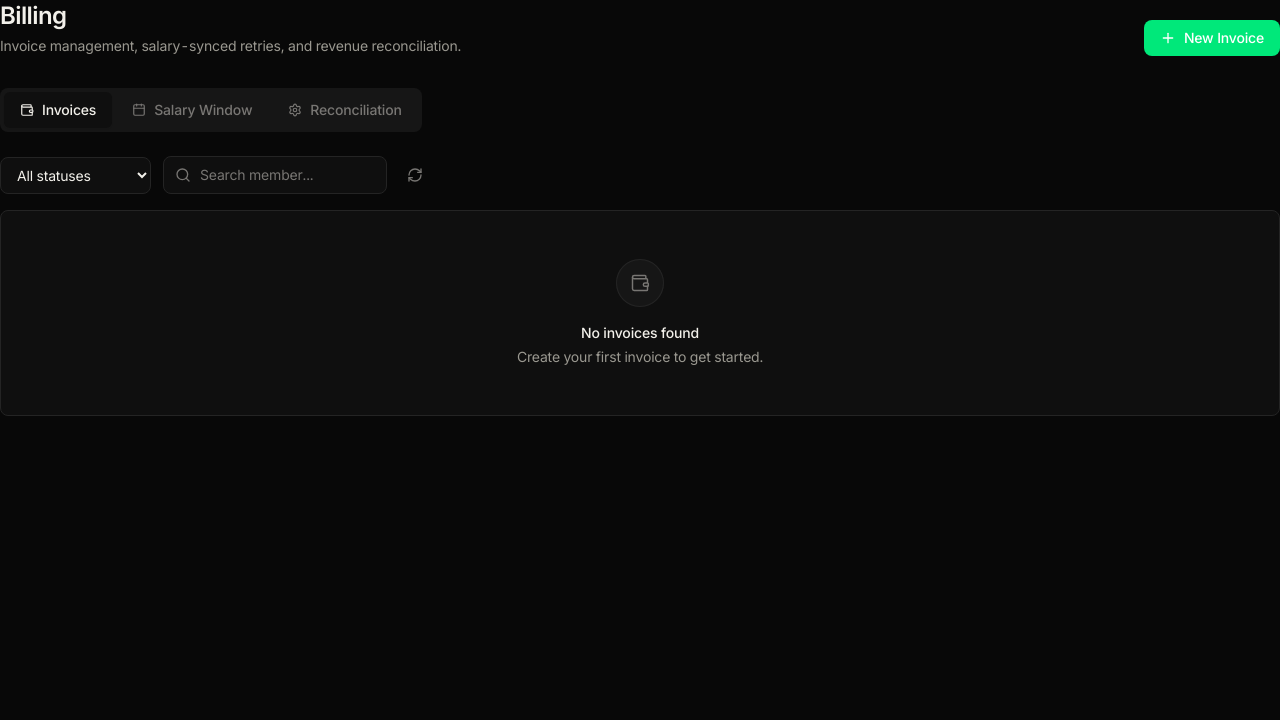
BillingClient — New Invoice Modal › opens compose modal when clicking "New Invoice"
Click the button "New Invoice" at [1212, 38], box [1144,20,1279,56]
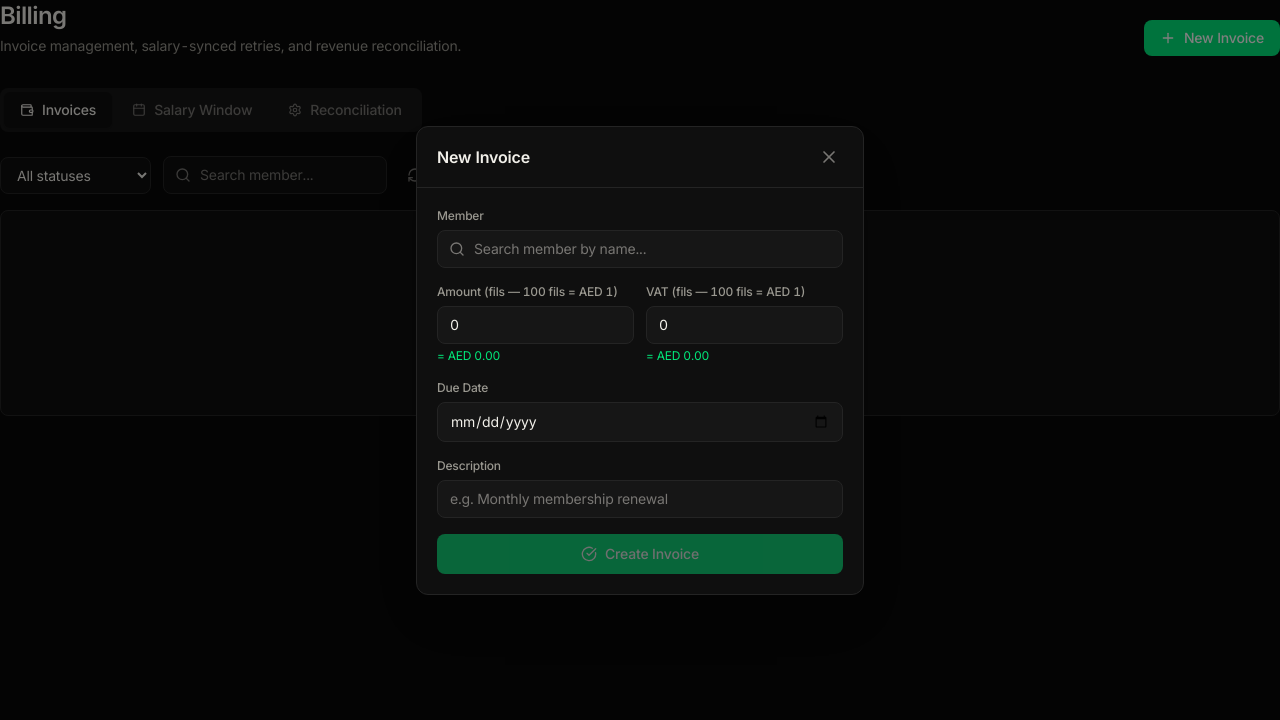
Check: the button "Create Invoice" is shown, box [437,534,843,574]
Check: the field with placeholder "Search member by name..." is shown, box [437,230,843,268]
